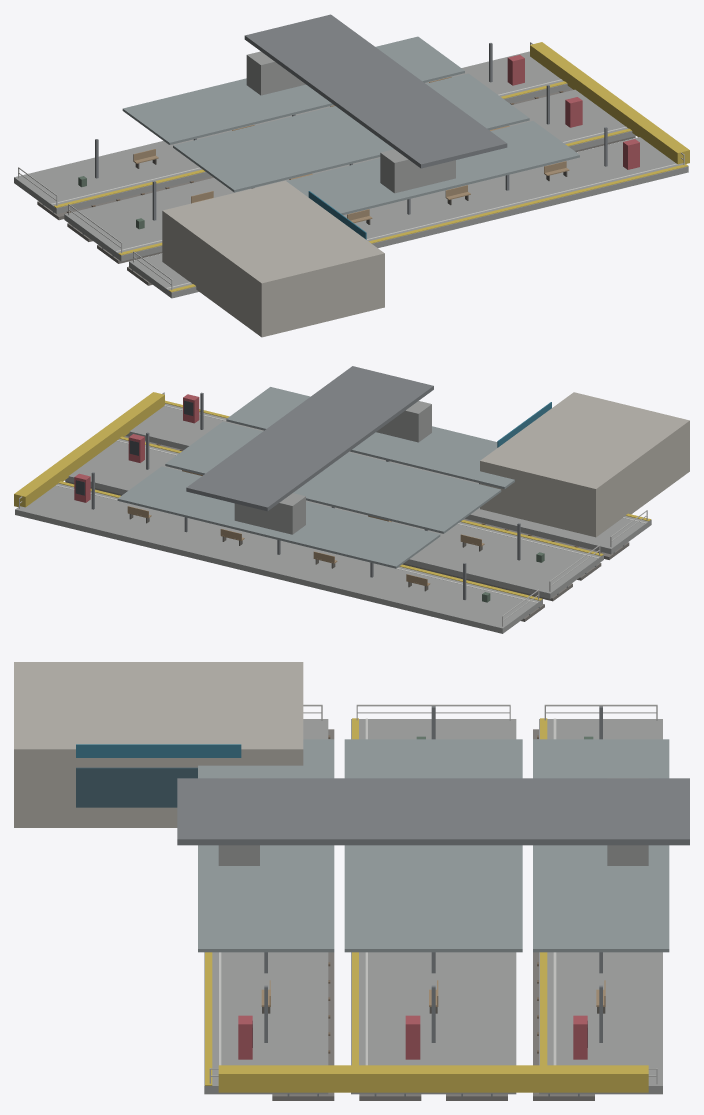
Rendered from station_terminal.glb.
3 views of the same model, one above another, from view 1: azimuth 30°, elevation 25°; view 2: azimuth 150°, elevation 25°; view 3: azimuth 270°, elevation 25° (orthographic). The views are drawn at different scales.
Visible parts, largest first — view 1: station_main_building, footbridge_deck, canopy_roof_1, platform_2, platform_0, canopy_roof_0, platform_1, canopy_roof_2, buffer_stop, footbridge_stair_9.4, footbridge_stair_-9.4, tactile_strip_2 (+5 smaller); view 2: station_main_building, platform_0, footbridge_deck, canopy_roof_1, platform_1, canopy_roof_0, canopy_roof_2, platform_2, buffer_stop, footbridge_stair_-9.4, footbridge_stair_9.4, tactile_strip_0 (+4 smaller); view 3: footbridge_deck, station_main_building, canopy_roof_1, platform_1, canopy_roof_0, canopy_roof_2, platform_0, platform_2, buffer_stop, station_glazing, station_sign, trackbed_3 (+9 smaller).
Part boxes in pixels (left/top/right/bottom): station_main_building: left=162, top=180, right=384, bottom=337; footbridge_deck: left=244, top=14, right=507, bottom=168; canopy_roof_1: left=173, top=73, right=529, bottom=192; platform_2: left=129, top=137, right=688, bottom=298; platform_0: left=14, top=51, right=571, bottom=214; canopy_roof_0: left=122, top=36, right=464, bottom=144; platform_1: left=64, top=89, right=635, bottom=261; canopy_roof_2: left=286, top=121, right=579, bottom=214; buffer_stop: left=530, top=42, right=689, bottom=164; footbridge_stair_9.4: left=380, top=149, right=455, bottom=193; footbridge_stair_-9.4: left=246, top=51, right=305, bottom=95; tactile_strip_2: left=169, top=164, right=688, bottom=292; station_main_building: left=480, top=392, right=689, bottom=537; platform_0: left=15, top=483, right=542, bottom=633; footbridge_deck: left=186, top=366, right=433, bottom=511; canopy_roof_1: left=165, top=421, right=501, bottom=533; platform_1: left=65, top=438, right=603, bottom=598; canopy_roof_0: left=117, top=466, right=440, bottom=568; canopy_roof_2: left=226, top=387, right=514, bottom=489; platform_2: left=126, top=403, right=651, bottom=554; buffer_stop: left=14, top=392, right=164, bottom=507; footbridge_stair_-9.4: left=234, top=493, right=305, bottom=534; footbridge_stair_9.4: left=376, top=401, right=431, bottom=442; tactile_strip_0: left=58, top=481, right=542, bottom=600; footbridge_deck: left=177, top=778, right=689, bottom=845; station_main_building: left=14, top=662, right=303, bottom=827; canopy_roof_1: left=344, top=739, right=522, bottom=952; platform_1: left=351, top=719, right=516, bottom=1094; canopy_roof_0: left=533, top=739, right=669, bottom=952; canopy_roof_2: left=198, top=739, right=334, bottom=952; platform_0: left=539, top=719, right=662, bottom=1094; platform_2: left=204, top=719, right=328, bottom=1094; buffer_stop: left=218, top=1065, right=648, bottom=1092; station_glazing: left=76, top=767, right=197, bottom=807; station_sign: left=76, top=744, right=241, bottom=757; trackbed_3: left=272, top=729, right=334, bottom=1100.
Bounding box in the file's own units: 42.5 × 6.73 × 32.7.
